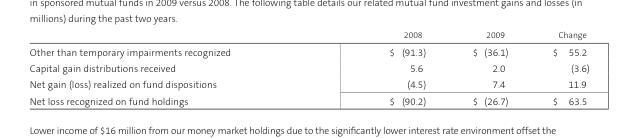table: (28, 29, 588, 106)
table column: (28, 29, 309, 106), (309, 29, 448, 106), (448, 29, 529, 106), (529, 29, 588, 106)
table column header: (28, 29, 588, 43)
table row: (28, 43, 588, 60), (28, 60, 588, 76), (28, 76, 588, 92), (28, 29, 588, 43), (28, 92, 588, 106)
